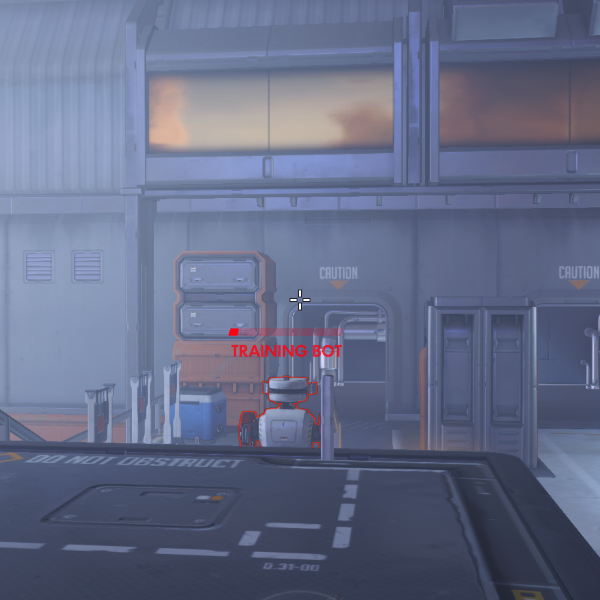hpbar: (228, 327, 344, 336)
